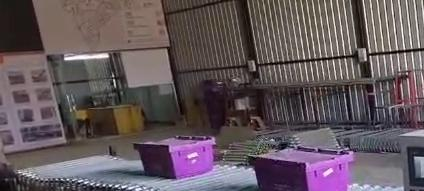box: (250, 147, 353, 190), (134, 136, 214, 178)
